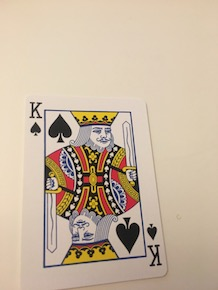KingOfSpades: (18, 87, 178, 290)
